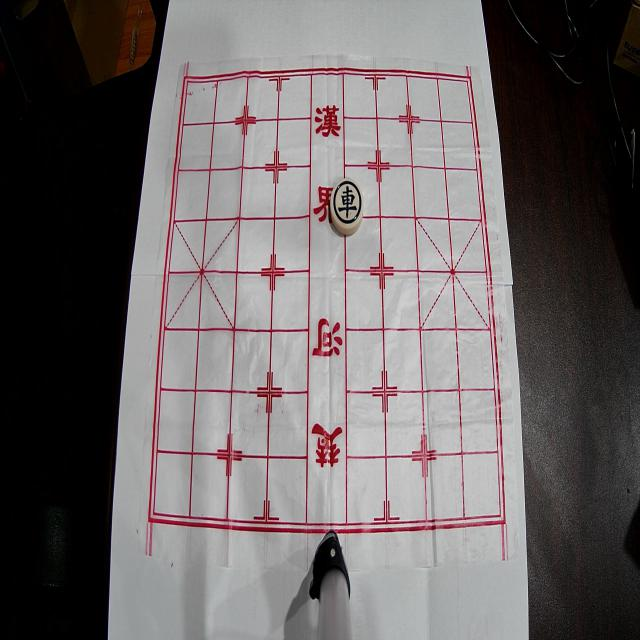black-chariot: (330, 178, 364, 235)
